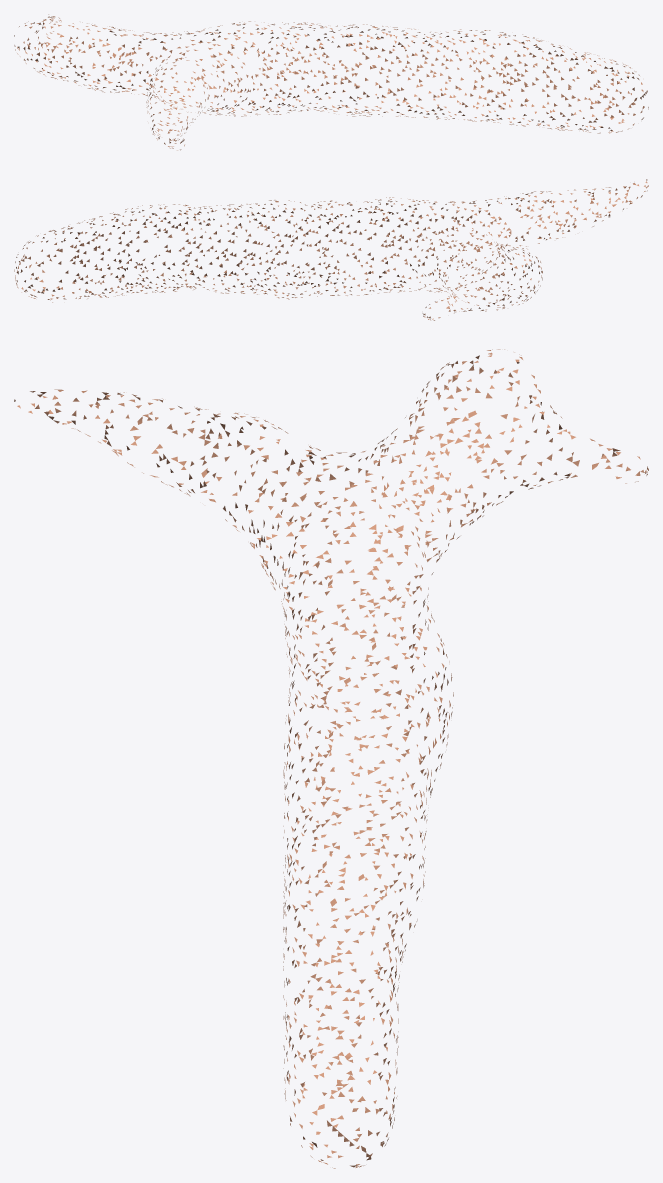
Rendered from morph_004.glb.
3 renders of one model, top to bottom at view 1: azimuth 30°, elevation 25°; view 2: azimuth 150°, elevation 25°; view 3: azimuth 270°, elevation 25°, orthographic. The views are drawn at different scales.
Bounding box in the file's own units: 120 × 40.58 × 65.2.
